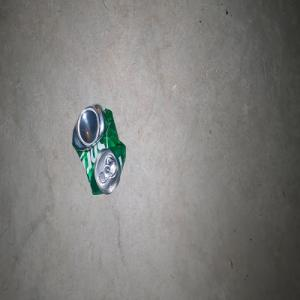SodaCan: (72, 103, 126, 195)
